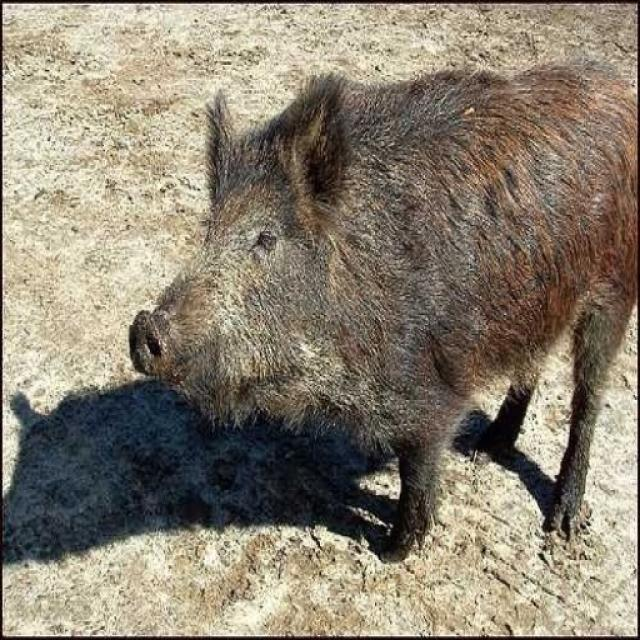pig: (130, 2, 640, 528)
